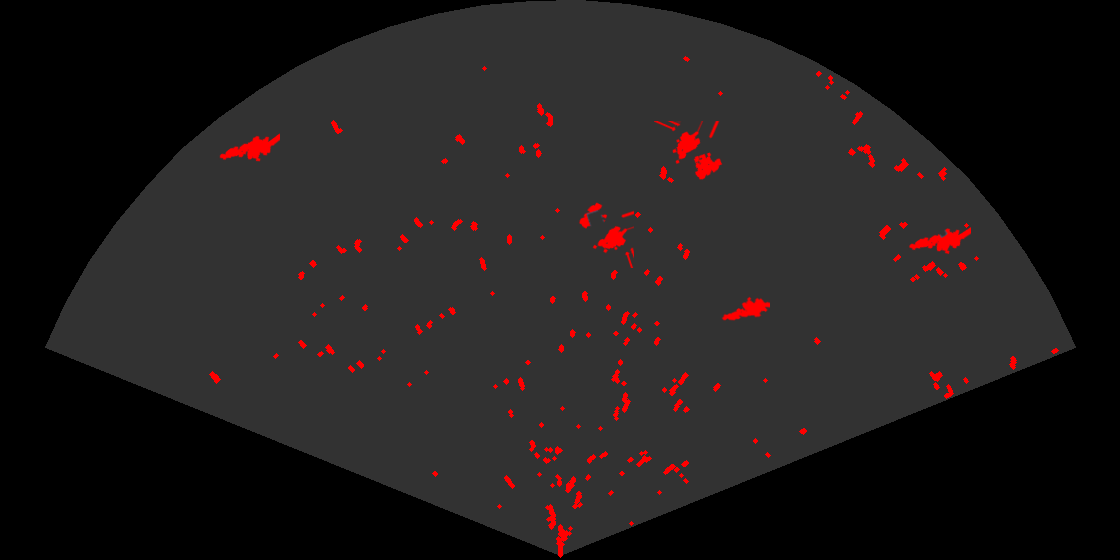cage: (654, 121, 724, 181), (577, 201, 634, 268)
frogman: (218, 132, 280, 163), (907, 226, 971, 256), (721, 295, 770, 322)
